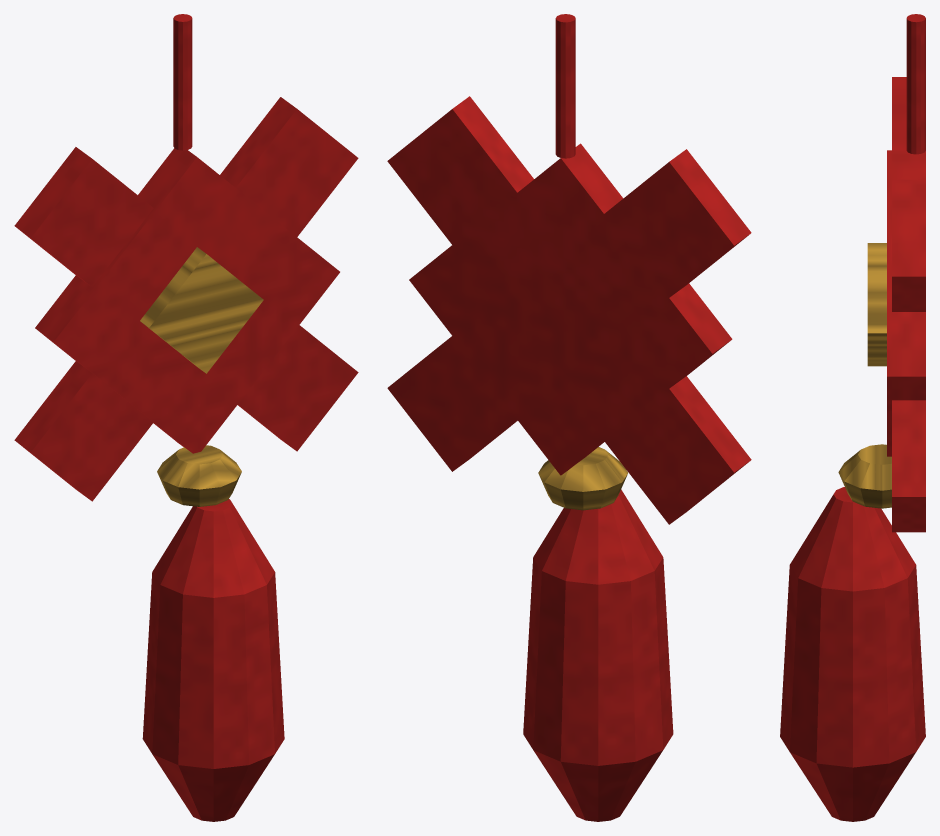
Rendered from chinese_knot.fbx.
3 renders of one model, left to right at view 1: azimuth 30°, elevation 25°; view 2: azimuth 150°, elevation 25°; view 3: azimuth 270°, elevation 25°, orthographic. The views are drawn at different scales.
Parts seen in each view (by area): view 1: chinese_knot; view 2: chinese_knot; view 3: chinese_knot.
Part boxes in pixels (x1,y1,x2,y2): chinese_knot: [14, 14, 358, 821]; chinese_knot: [387, 14, 751, 821]; chinese_knot: [780, 14, 925, 821].
Size of the model in its own units: 16 by 36 by 6.
